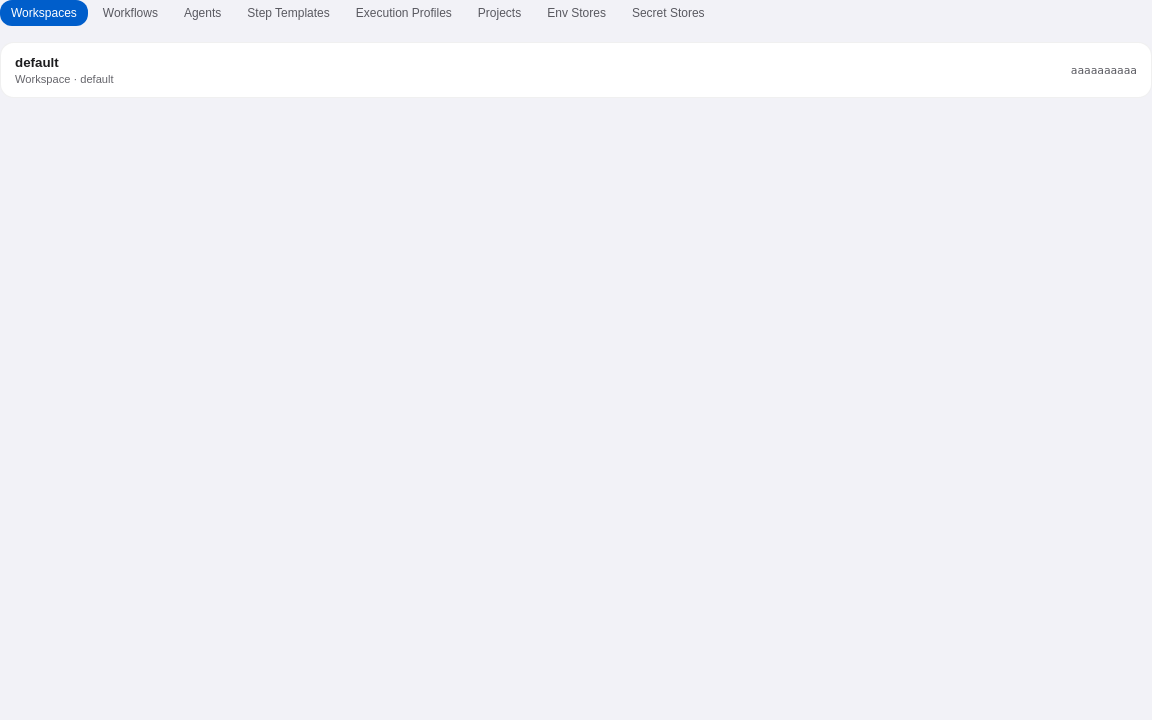
Test: ExpertResources › preserves the draft when daemon validation rejects apply
Click the button with aria-label "打开 Workspace default": (37, 62) top-left (1, 43), bottom-right (1151, 97)
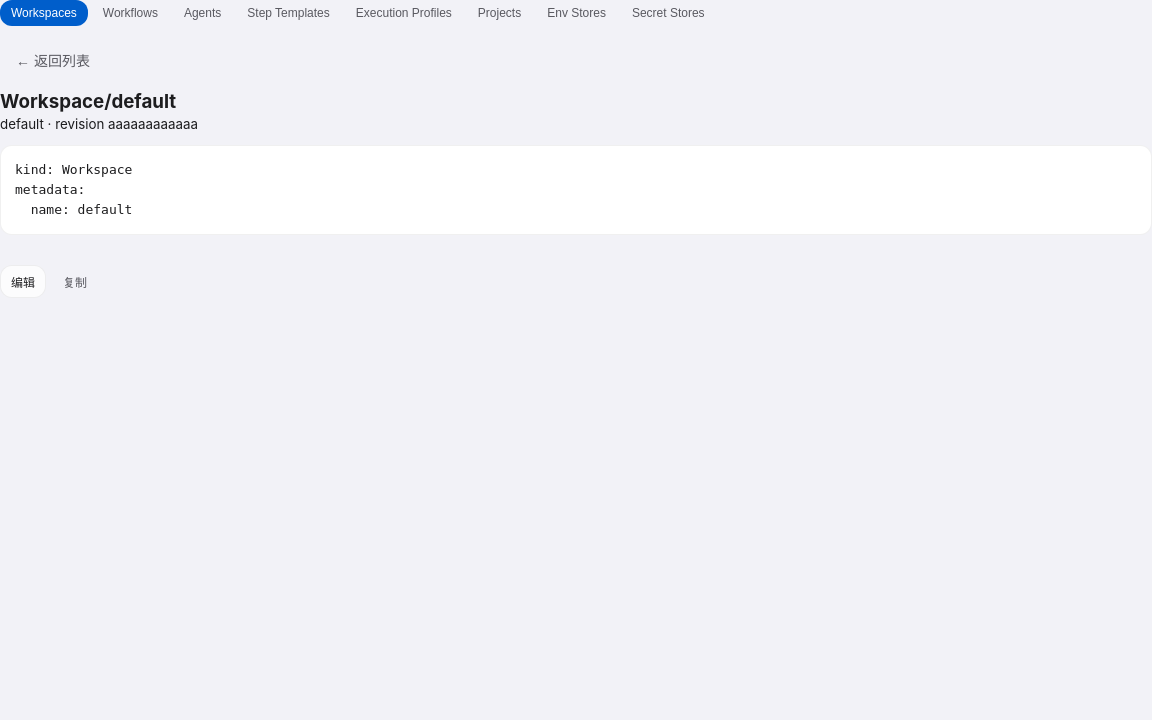
Click the button "编辑": (23, 282) top-left (0, 265), bottom-right (46, 298)
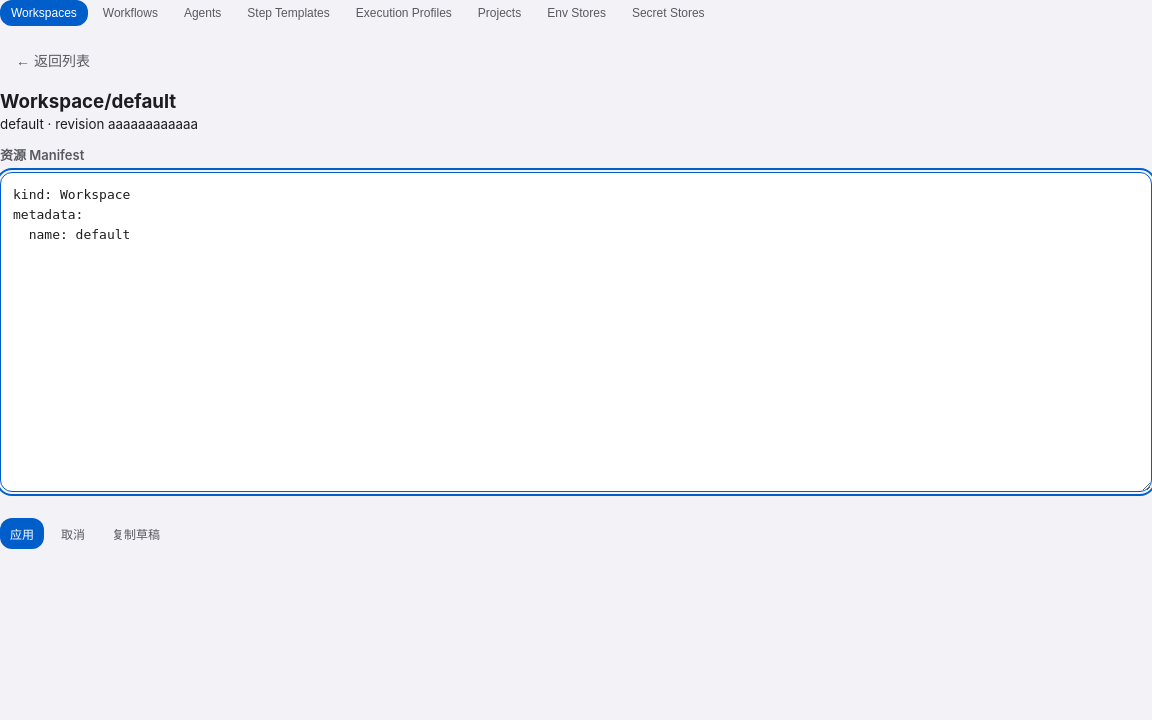
Replace the text in the text box labelled "资源 Manifest" with "draft-invalid-marker": (576, 332) top-left (0, 172), bottom-right (1151, 492)
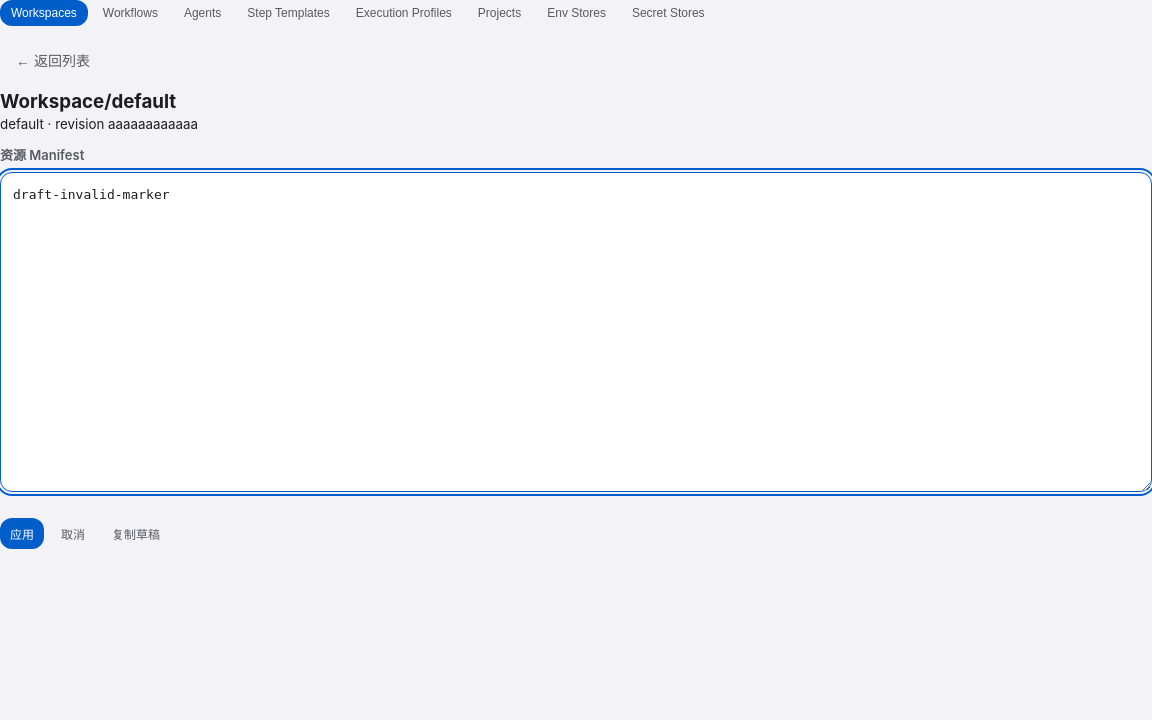
Click the button "应用": (22, 534) top-left (0, 518), bottom-right (44, 549)
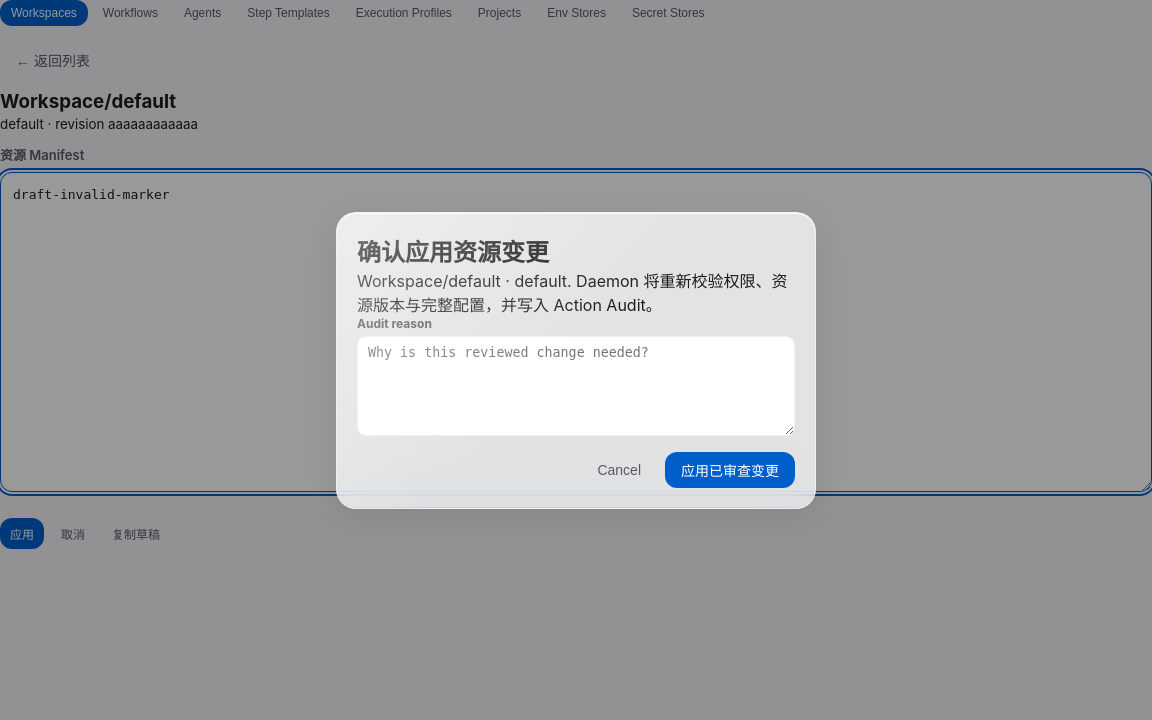
In the text box labelled "Audit reason": (576, 386) top-left (357, 336), bottom-right (795, 436), type "exercise validation"
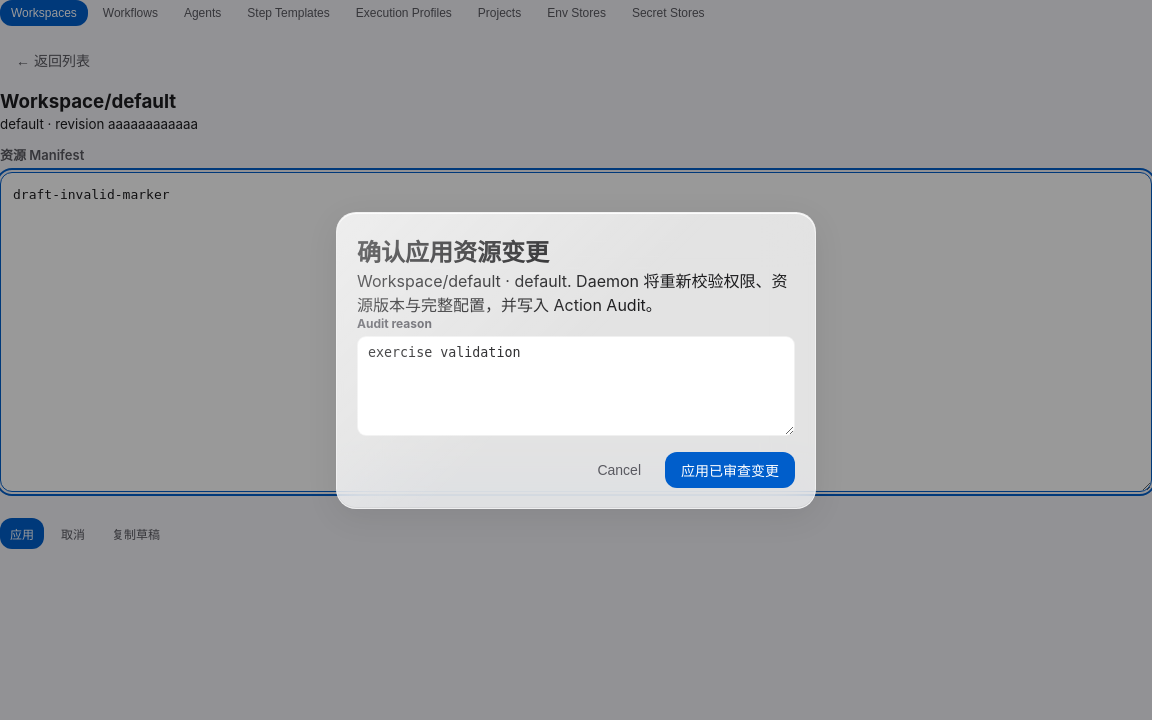
Click the button "应用已审查变更": (730, 470) top-left (665, 452), bottom-right (795, 488)
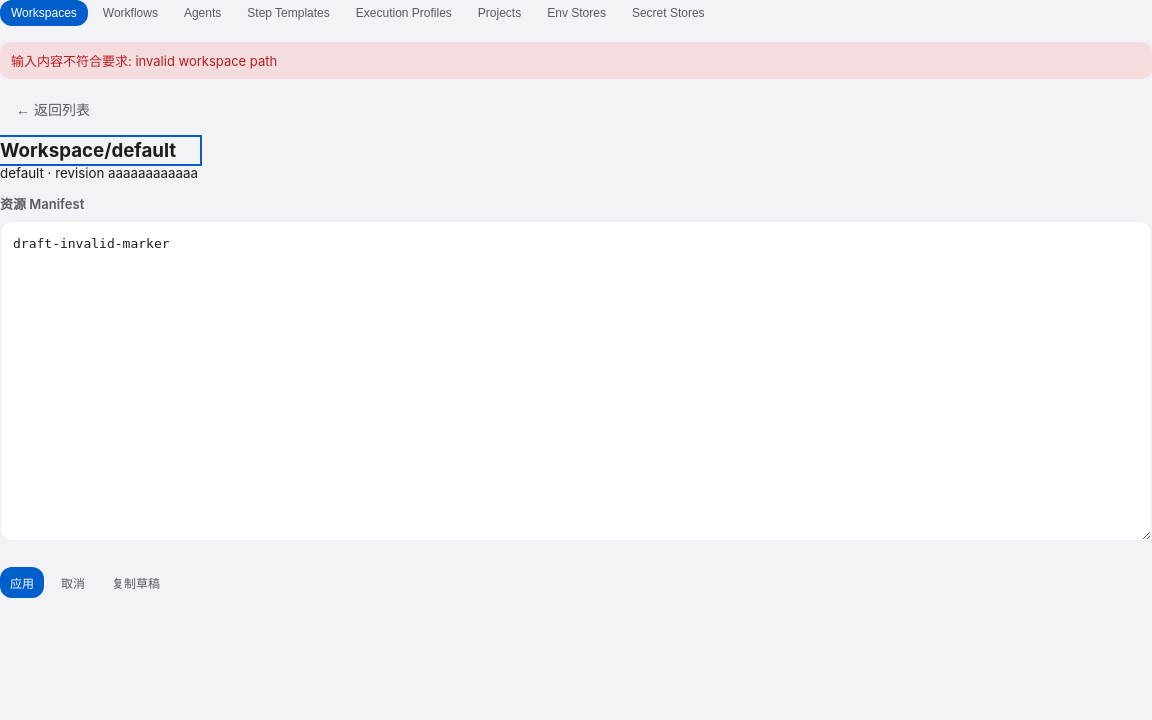
Expected: the message shows "invalid workspace path", top-left (11, 53), bottom-right (277, 69)
